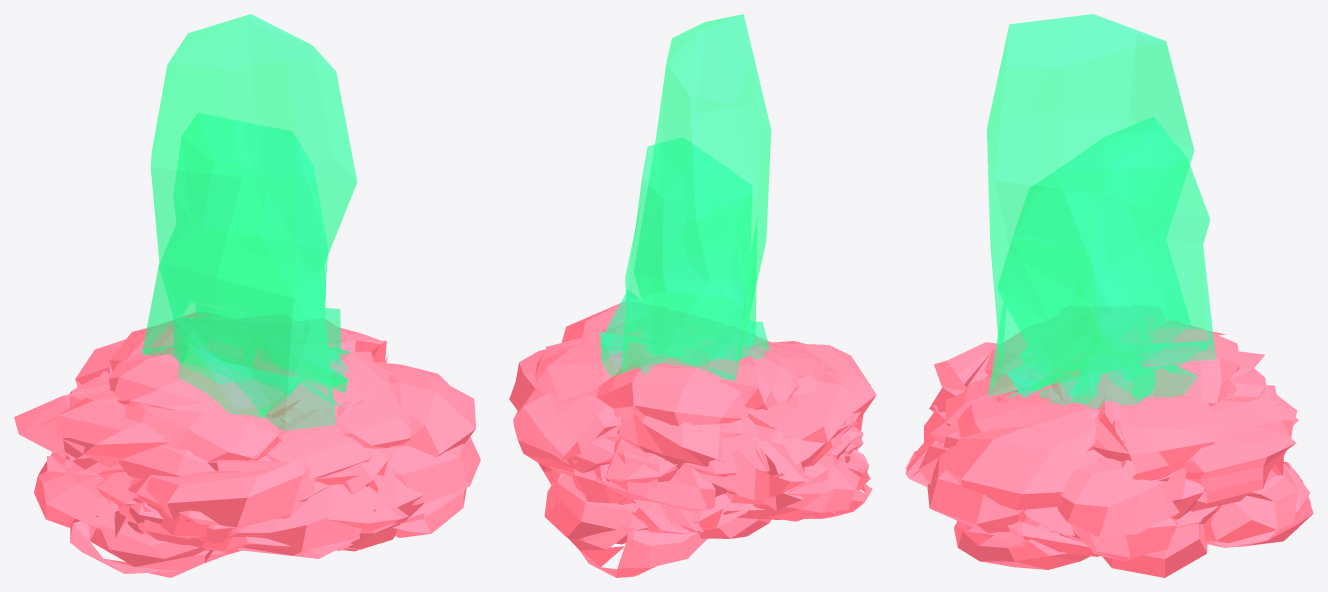
Rendered from XRYSTAL33.gltf.
3 views of the same model, side by side, from view 1: azimuth 30°, elevation 25°; view 2: azimuth 150°, elevation 25°; view 3: azimuth 270°, elevation 25° (orthographic). The views are drawn at different scales.
Parts seen in each view (by area): view 1: Cube.001, Circle; view 2: Cube.001, Circle; view 3: Circle, Cube.001.
Part boxes in pixels (<box>): Cube.001: <box>14,312,480,577</box>; Circle: <box>142,14,357,430</box>; Cube.001: <box>509,301,876,577</box>; Circle: <box>599,14,771,380</box>; Circle: <box>987,14,1215,409</box>; Cube.001: <box>905,317,1313,577</box>.
Size of the model in its own units: 2.92 by 3.81 by 2.72.
